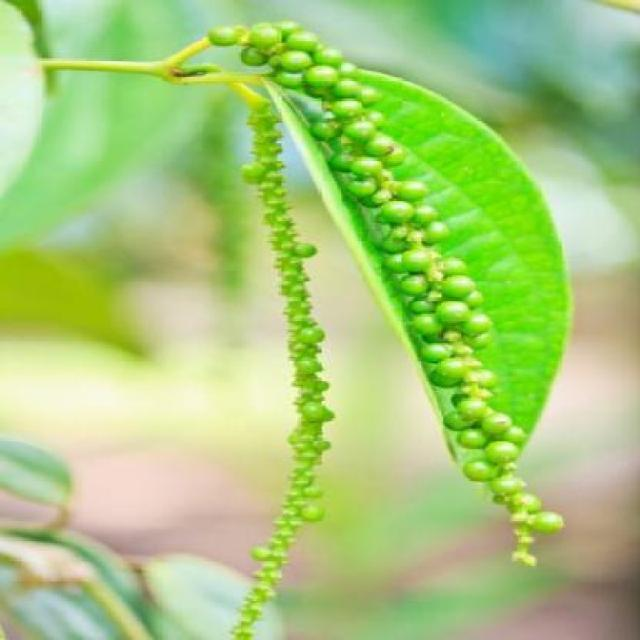UNRIPE: (203, 20, 560, 566), (231, 94, 325, 638)
